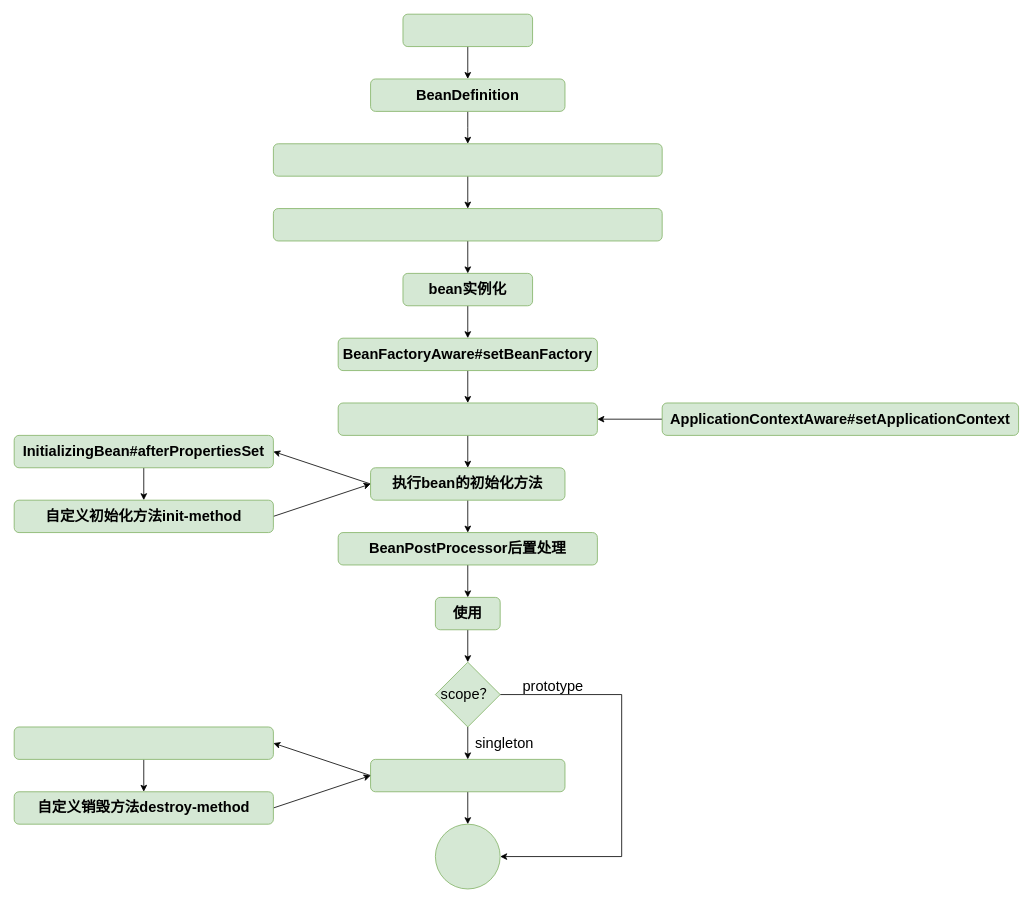
Some shapes in this 1033 by 903 pixel diagram are drawn without their labels. The shapes that lost their labels are listed below. From the top down, each one's box as (x1, y1, x2, y2) in pixels, then its label:
(402, 13, 533, 47): XML文件
(273, 143, 662, 176): BeanFactoryPostProcessor修改BeanDefinition
(273, 208, 662, 241): InstantiationAwareBeanPostProcessor，可生成代理对象
(337, 402, 597, 435): BeanPostProcessor前置处理
(13, 726, 273, 759): DisposableBean#destroy
(370, 759, 565, 792): 执行bean的销毁方法
